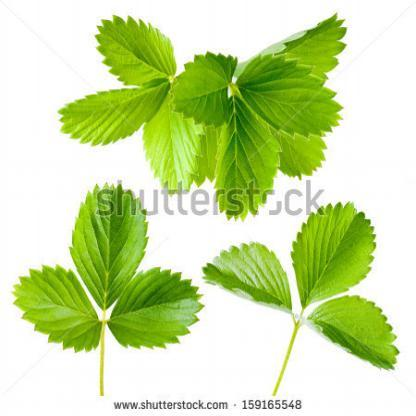Strawberry leaf: (63, 174, 156, 310), (292, 194, 376, 302), (238, 53, 343, 136), (107, 266, 202, 354), (13, 258, 99, 354), (56, 84, 169, 148), (138, 92, 205, 198), (202, 244, 292, 316), (310, 286, 394, 362), (93, 14, 173, 92), (214, 115, 276, 212), (164, 54, 236, 122)
